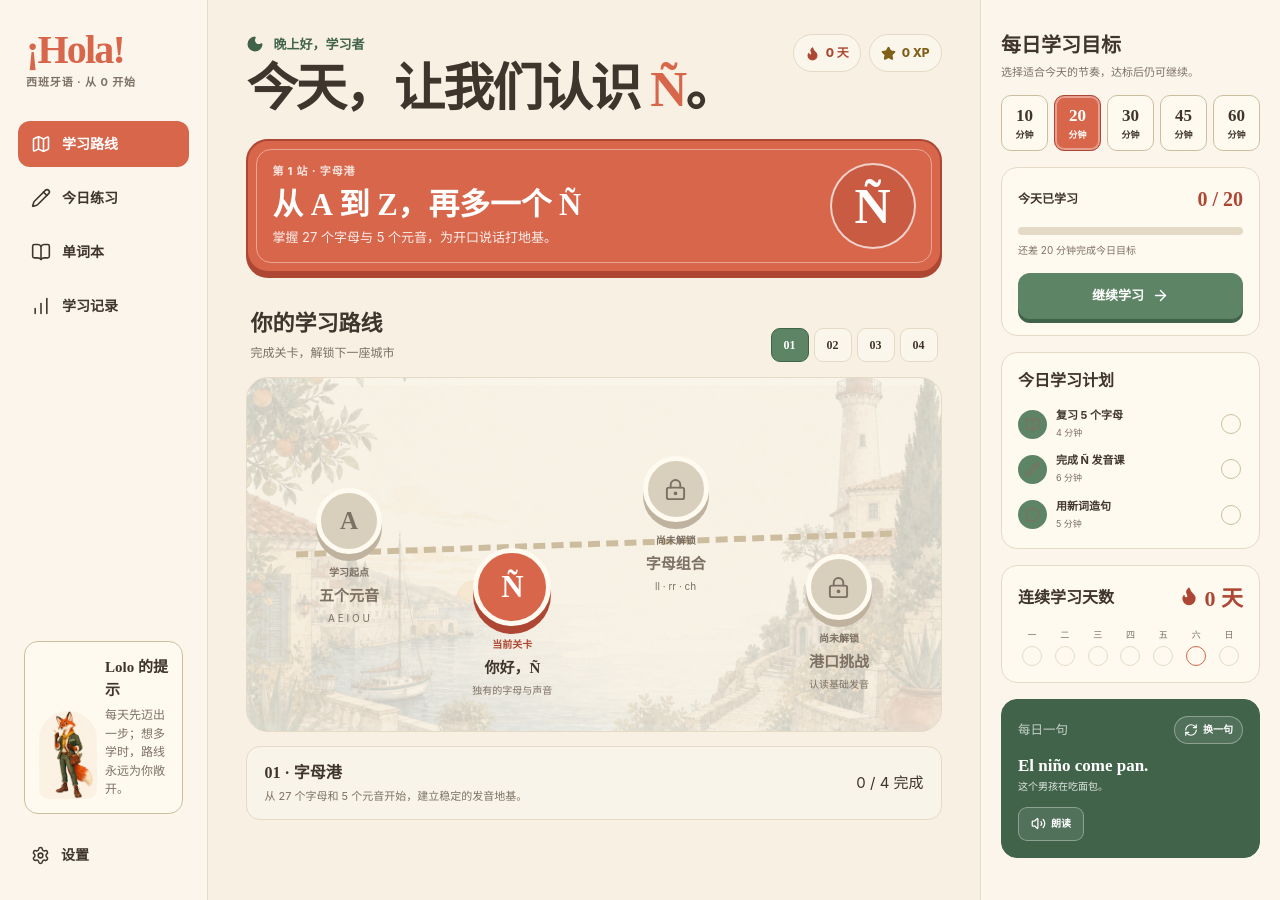
Test: App lesson routing › opens the lesson as a focused full-screen experience
The image size is (1280, 900).
Click the button with aria-label "开始 你好，Ñ" at (512, 623), box [439,548,586,698]
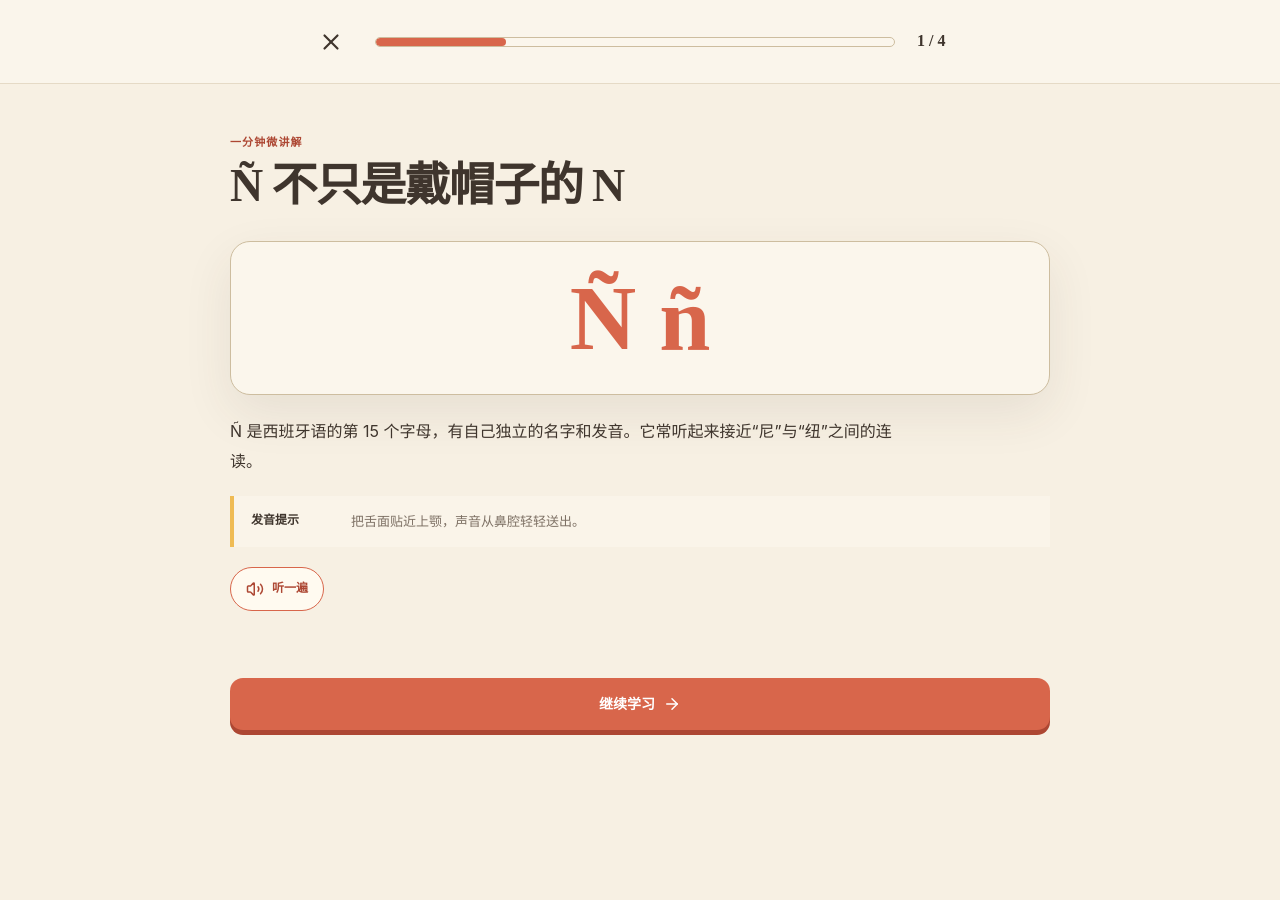
Check: the heading "Ñ 不只是戴帽子的 N" is shown, box [230,160,624,211]
Check: the element "主导航" is gone
